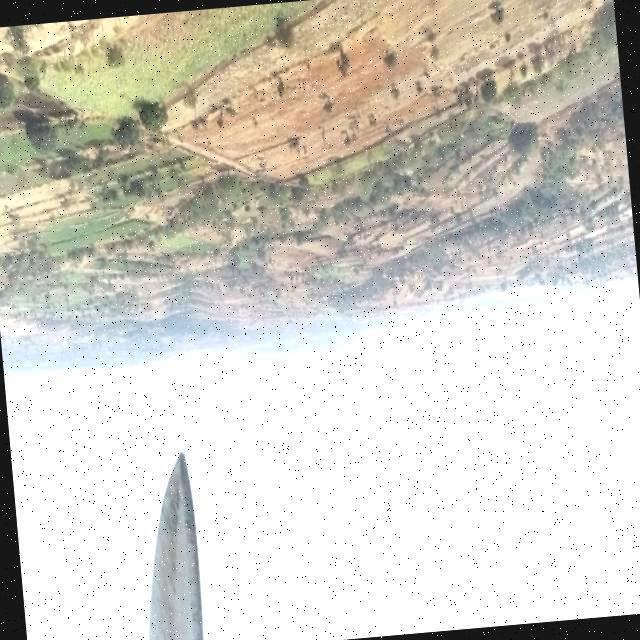Dirt: (146, 453, 205, 638)
